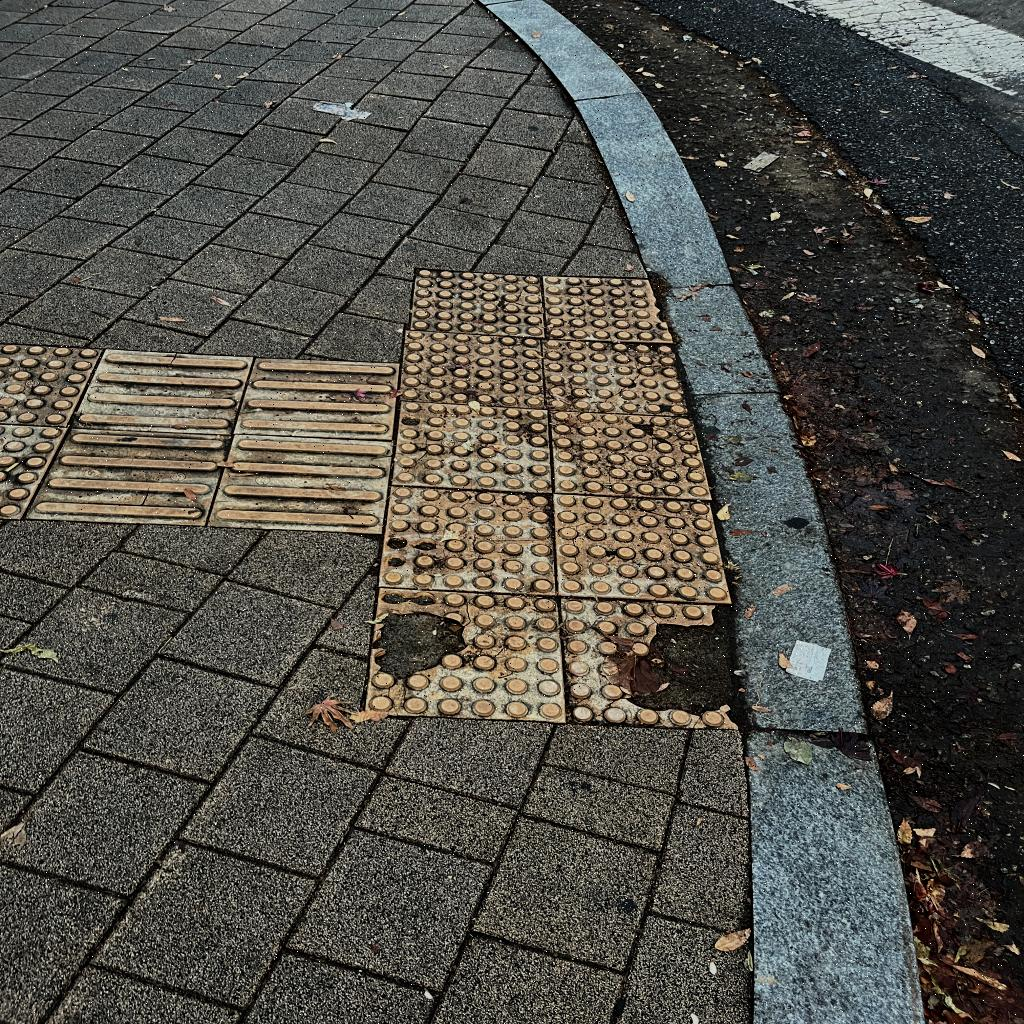Stop block broken: (368, 589, 572, 728), (555, 599, 748, 730)
Stop block normal: (549, 495, 735, 605), (381, 487, 560, 594), (393, 402, 555, 494), (547, 412, 712, 497)
Straight block normal: (209, 434, 391, 533), (236, 359, 398, 438)
